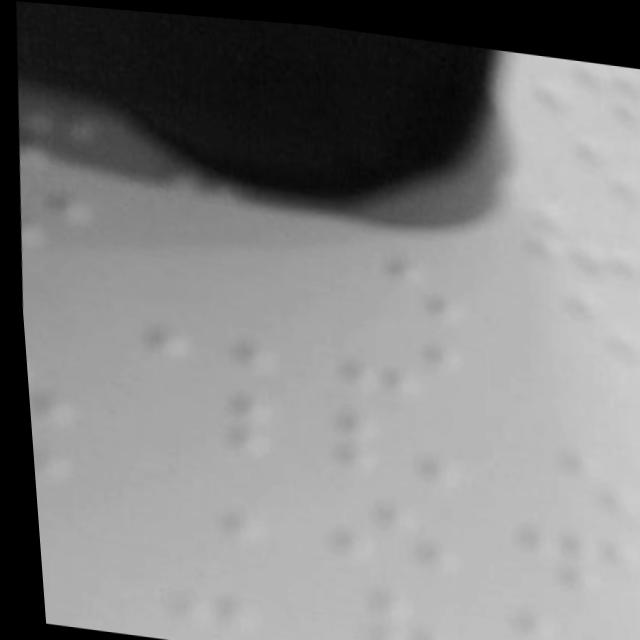braiile: (117, 369, 276, 459), (114, 537, 265, 629), (114, 455, 268, 545), (123, 282, 276, 370), (318, 475, 464, 566), (321, 303, 467, 394), (322, 385, 465, 476), (319, 223, 467, 309), (503, 419, 640, 511), (501, 505, 640, 593), (511, 258, 640, 350), (513, 98, 640, 188), (319, 568, 457, 640), (518, 43, 640, 111)
